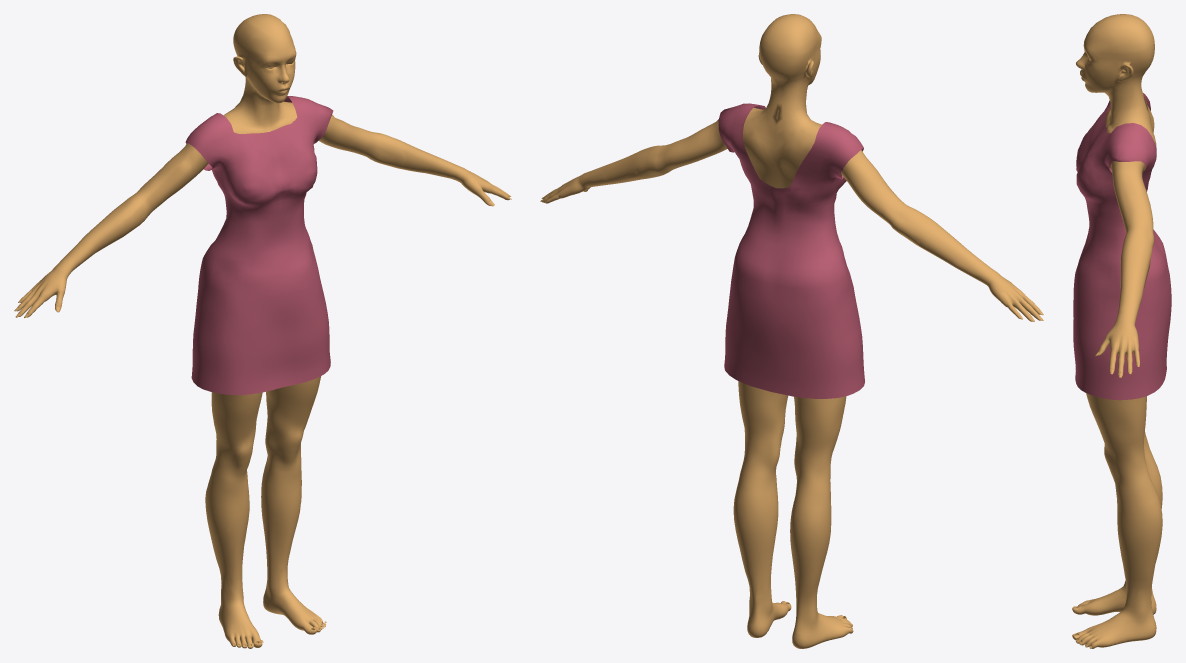
Rendered from dress7.glb.
3 renders of one model, left to right at view 1: azimuth 30°, elevation 25°; view 2: azimuth 150°, elevation 25°; view 3: azimuth 270°, elevation 25°, orthographic.
Parts seen in each view (by area): view 1: Body, Jennifer.F_Dress_01; view 2: Body, Jennifer.F_Dress_01; view 3: Body, Jennifer.F_Dress_01.
Part boxes in pixels (left/top/right/bottom): Body: left=17, top=14, right=511, bottom=648; Jennifer.F_Dress_01: left=185, top=96, right=333, bottom=395; Body: left=541, top=14, right=1041, bottom=648; Jennifer.F_Dress_01: left=718, top=103, right=864, bottom=398; Body: left=1072, top=14, right=1162, bottom=648; Jennifer.F_Dress_01: left=1073, top=93, right=1171, bottom=400.
Size of the model in its own units: 1.58 by 1.85 by 0.2723.
